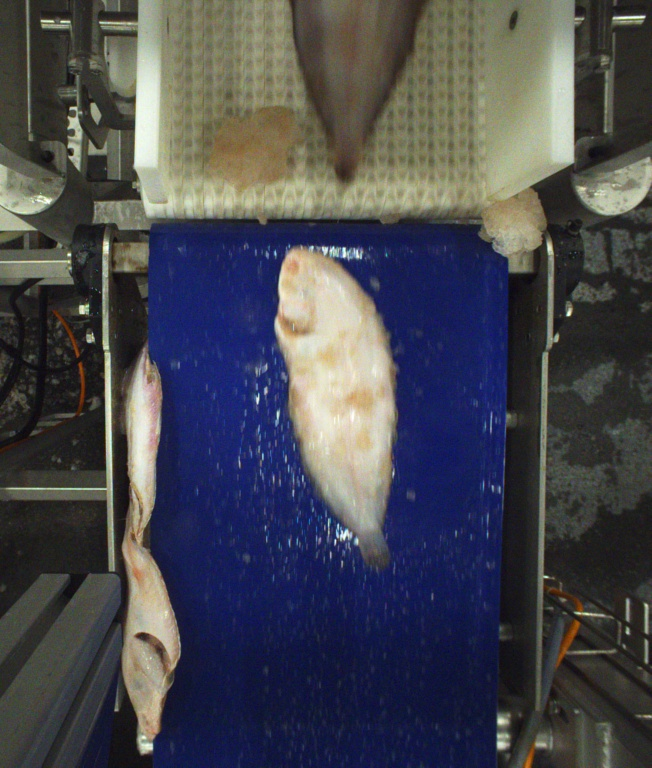SOL: (283, 0, 426, 186)
